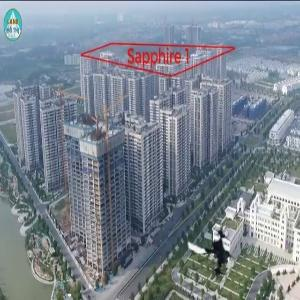drone: (179, 216, 245, 282)
